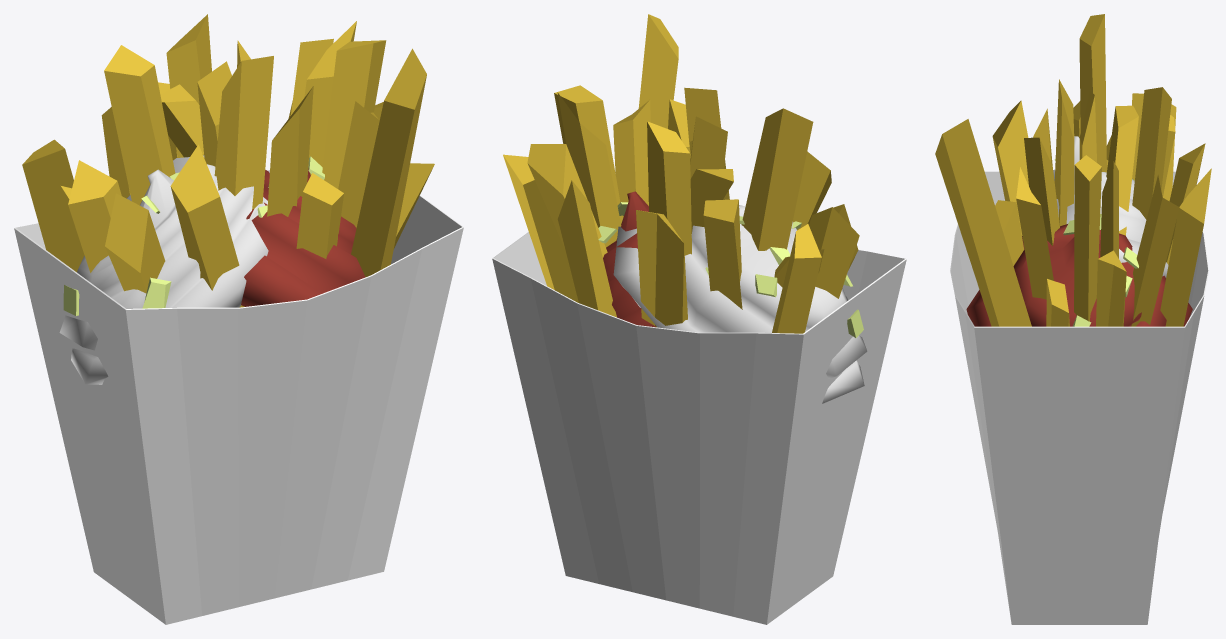
File: NormalFries.fbx
The picture shows the model from 3 angles, left to right: view 1: azimuth 30°, elevation 25°; view 2: azimuth 150°, elevation 25°; view 3: azimuth 270°, elevation 25°; orthographic projection. The views are drawn at different scales.
Visible parts, largest first — view 1: Container, Fries, Mayo, Ketchup, Onion; view 2: Container, Fries, Mayo, Ketchup, Onion; view 3: Container, Fries, Ketchup, Mayo, Onion.
Part boxes in pixels (<box>): Container: <box>14,170,463,624</box>; Fries: <box>22,14,434,307</box>; Mayo: <box>59,155,269,384</box>; Ketchup: <box>241,168,365,306</box>; Onion: <box>63,156,324,315</box>; Container: <box>492,232,906,624</box>; Fries: <box>503,14,859,333</box>; Mayo: <box>613,205,867,403</box>; Ketchup: <box>603,191,655,327</box>; Onion: <box>598,202,863,337</box>; Container: <box>950,171,1209,624</box>; Fries: <box>935,14,1211,326</box>; Ketchup: <box>966,224,1192,326</box>; Mayo: <box>1053,136,1168,277</box>; Onion: <box>1054,159,1138,326</box>.
Size of the model in its own units: 22.39 by 31.39 by 15.35.
